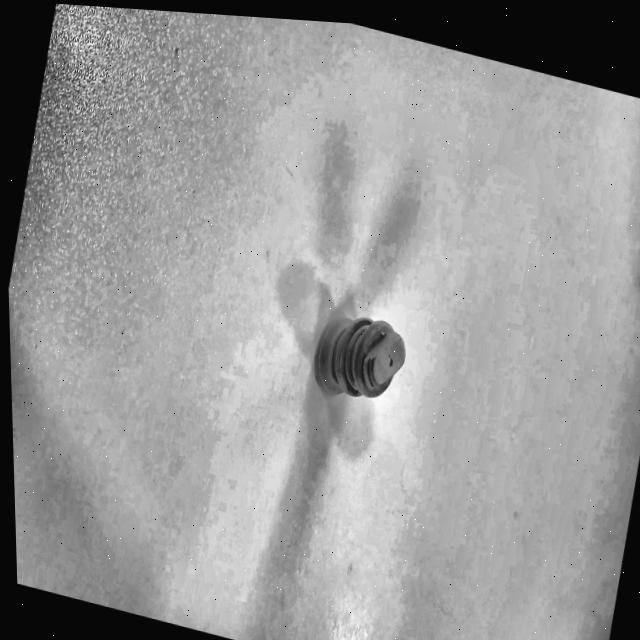white-king: (276, 253, 432, 453)
